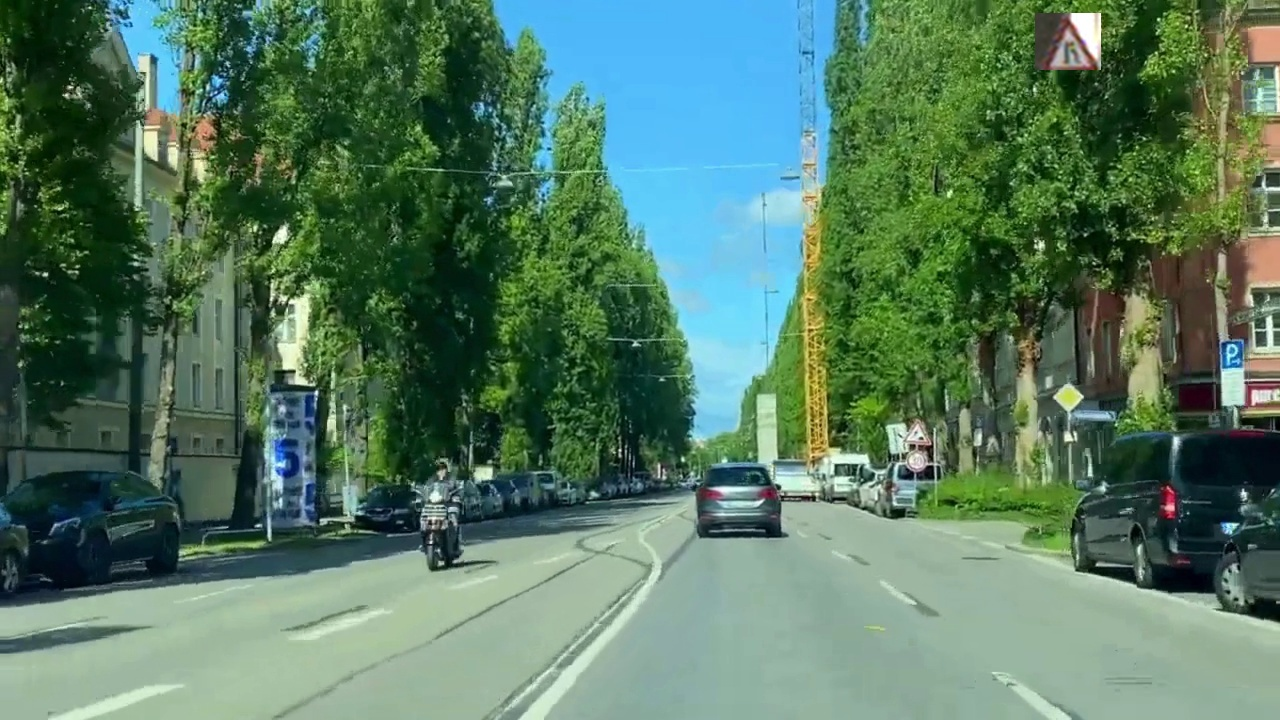Road narrows: (1035, 13, 1101, 70)
